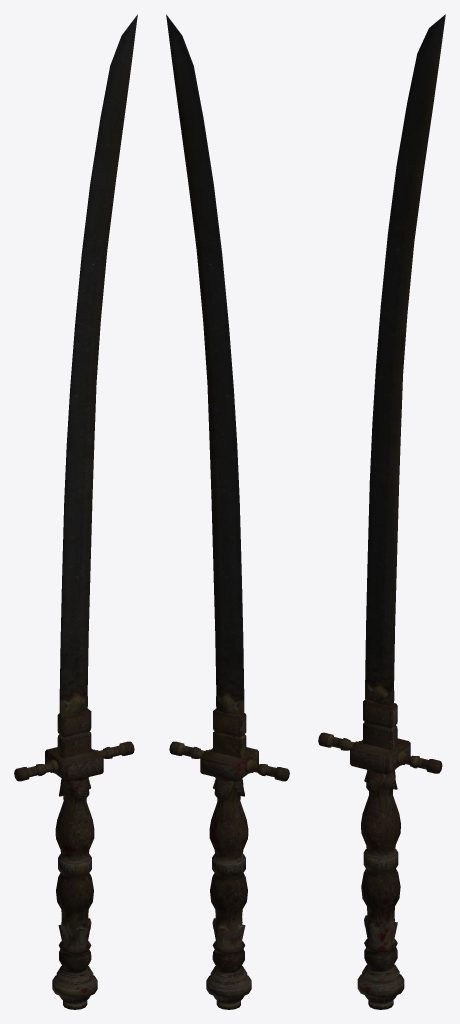
Rendered from cleric.glb.
The picture shows the model from 3 angles, left to right: view 1: azimuth 30°, elevation 25°; view 2: azimuth 150°, elevation 25°; view 3: azimuth 330°, elevation 25°; orthographic projection. The views are drawn at different scales.
Parts seen in each view (by area): view 1: WP_A_1063; view 2: WP_A_1063; view 3: WP_A_1063.
Part boxes in pixels (x1=…): WP_A_1063: x1=14, y1=14, x2=137, y2=1009; WP_A_1063: x1=166, y1=14, x2=289, y2=1009; WP_A_1063: x1=318, y1=14, x2=445, y2=1009.
Bounding box in the file's own units: 8.14 × 62.95 × 2.66.
1 material, 1 textured.
